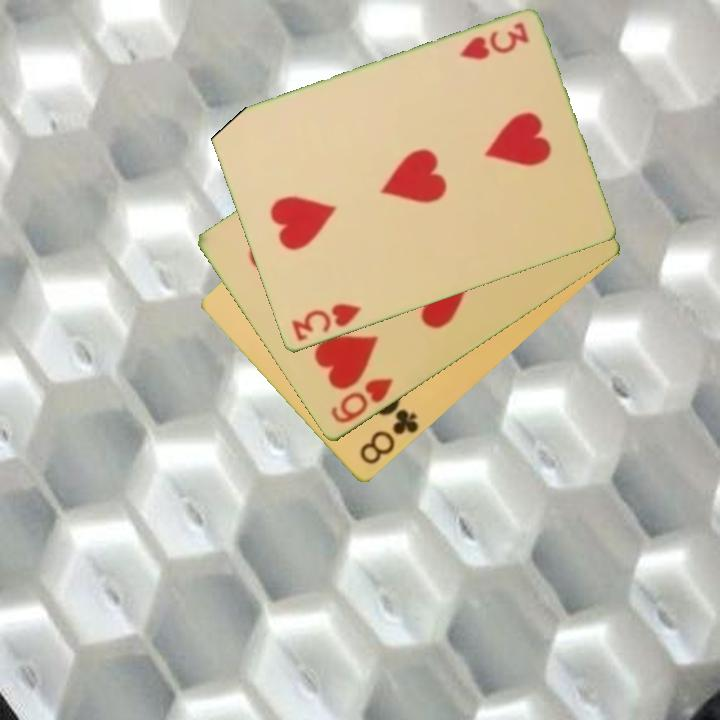3h: (287, 300, 364, 345), (456, 19, 532, 64)
6h: (327, 375, 397, 427)
8c: (356, 405, 422, 469)
